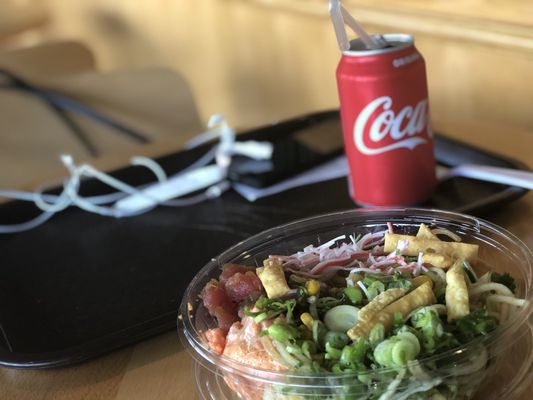sushi: (177, 211, 532, 400)
